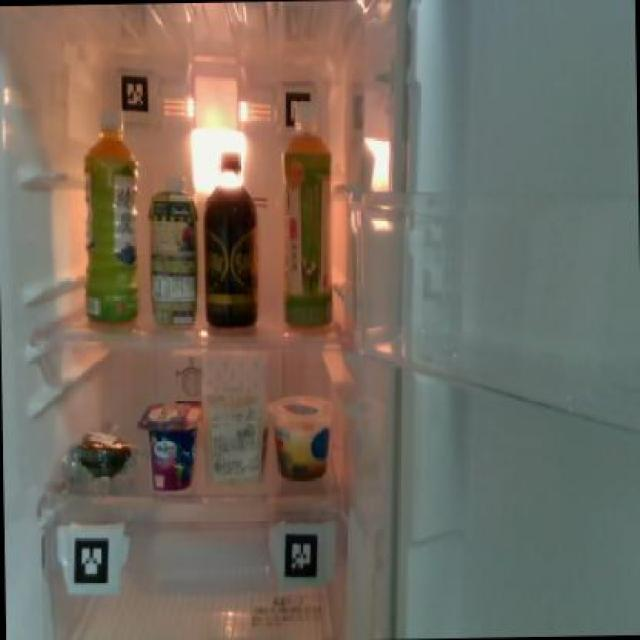coffee: (200, 147, 262, 330)
pudding: (268, 393, 334, 476)
rice_ball: (61, 422, 136, 484)
sandwich: (199, 349, 267, 486)
smoothie: (145, 168, 200, 328)
tea_a: (80, 105, 142, 328)
tea_i: (272, 126, 336, 334)
yogurt: (134, 398, 200, 491)
